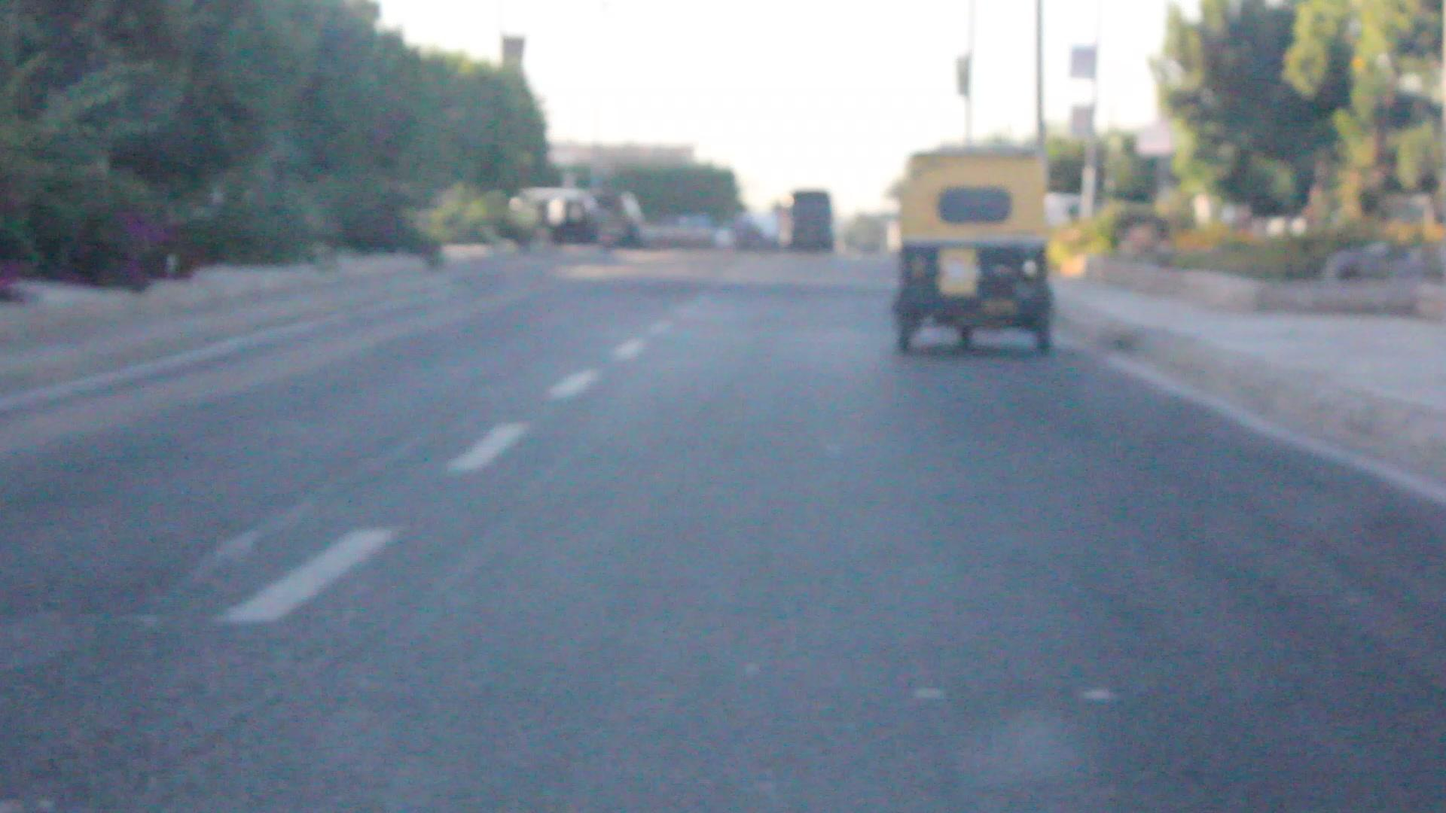Bump: (477, 265, 903, 304)
